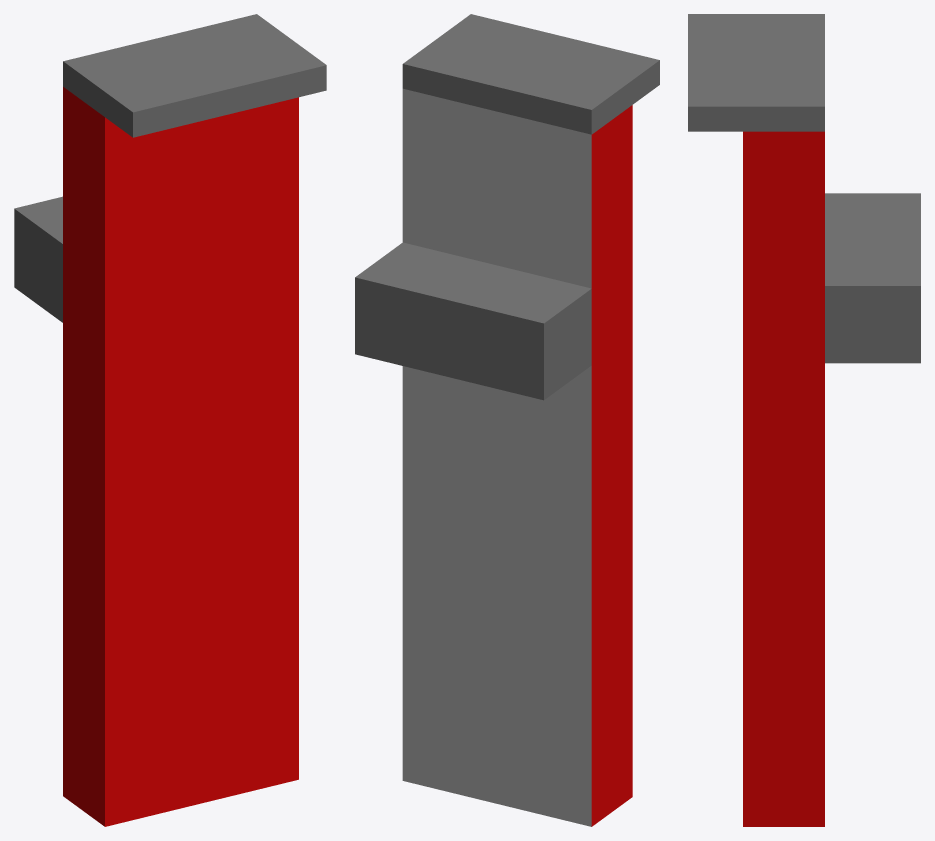
File: AanrechtModularPCGFixed.fbx
3 views of the same model, side by side, from view 1: azimuth 30°, elevation 25°; view 2: azimuth 150°, elevation 25°; view 3: azimuth 270°, elevation 25° (orthographic). The views are drawn at different scales.
Visible parts, largest first — view 1: AanrechtModular; view 2: AanrechtModular; view 3: AanrechtModular.
Part boxes in pixels (x1,y1,x2,y2): AanrechtModular: (14, 14, 326, 826); AanrechtModular: (355, 14, 659, 826); AanrechtModular: (688, 14, 920, 826).
Size of the model in its own units: 2 by 7.25 by 2.12.
